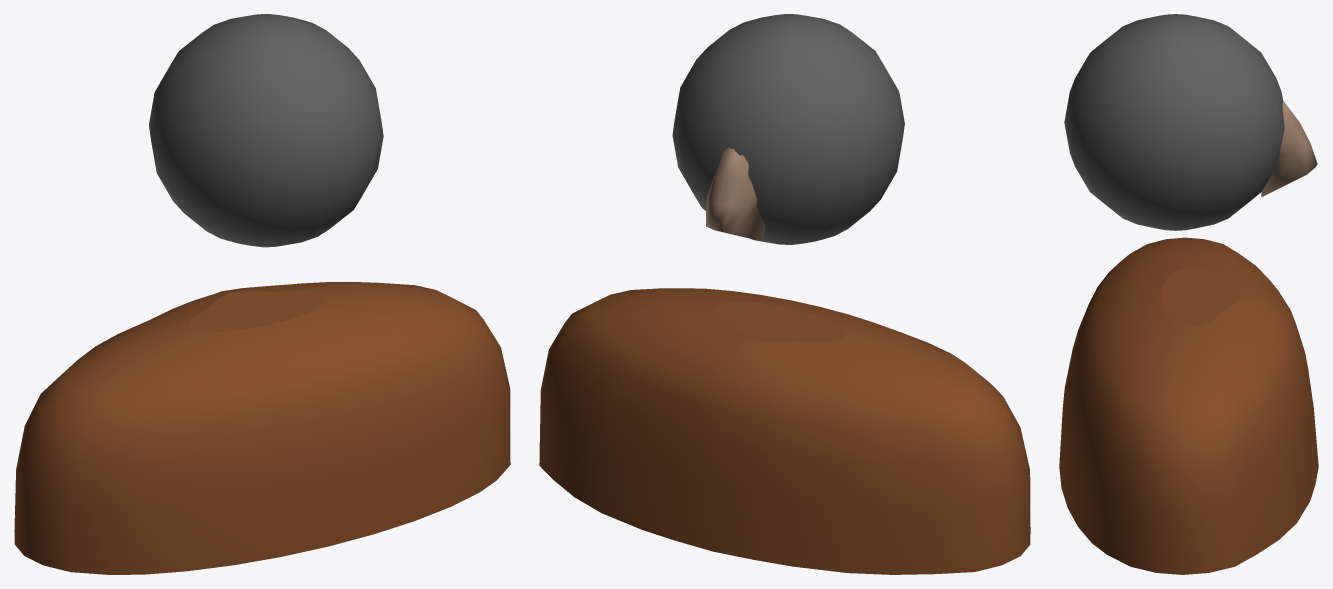
File: NPC3.fbx
The picture shows the model from 3 angles, left to right: view 1: azimuth 30°, elevation 25°; view 2: azimuth 150°, elevation 25°; view 3: azimuth 270°, elevation 25°; orthographic projection. The views are drawn at different scales.
Parts seen in each view (by area): view 1: pCylinder14; view 2: pCylinder14; view 3: pCylinder14.
Part boxes in pixels (x1,y1,x2,y2): pCylinder14: (14,14,510,574); pCylinder14: (539,14,1030,574); pCylinder14: (1059,14,1318,574).
Bounding box in the file's own units: 1.65 × 1.57 × 0.8349.
